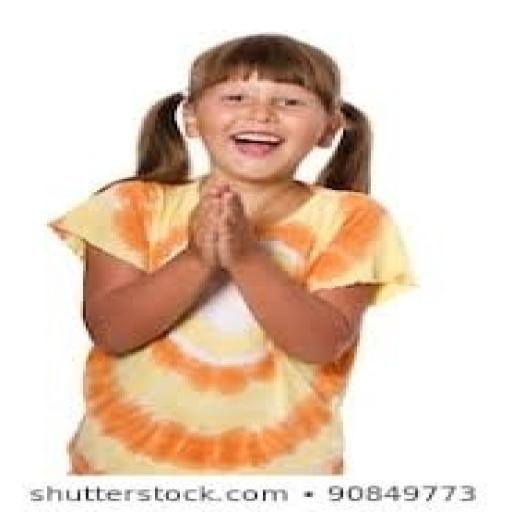clapping: (44, 32, 415, 474)
